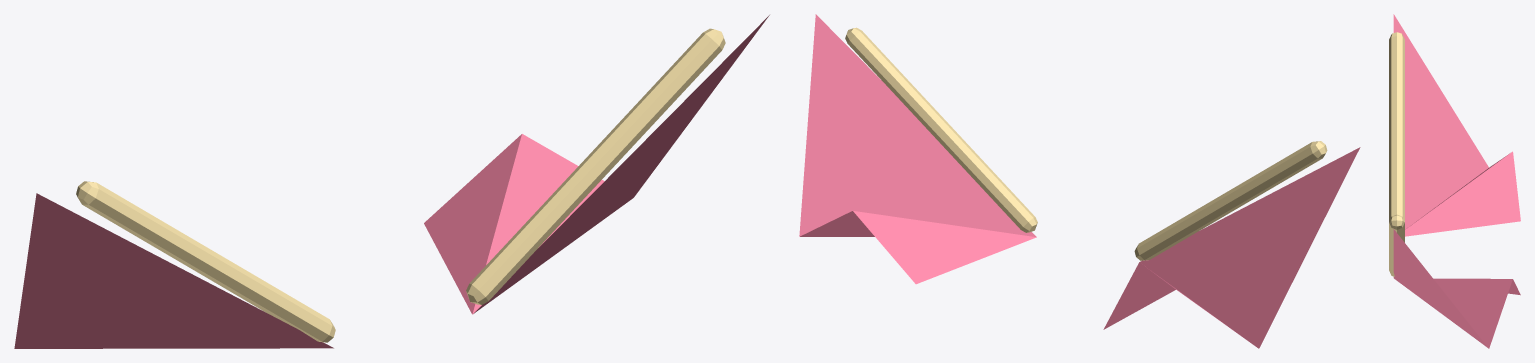
Rendered from wings.glb.
3 renders of one model, left to right at view 1: azimuth 30°, elevation 25°; view 2: azimuth 150°, elevation 25°; view 3: azimuth 270°, elevation 25°, orthographic. The views are drawn at different scales.
Visible parts, largest first — view 1: Wing, Wing.001, Wing bone.001, Wing bone; view 2: Wing.001, Wing, Wing bone.001, Wing bone; view 3: Wing, Wing.001, Wing bone, Wing bone.001.
Boxes of the visible parts, <box> form: Wing: <box>14,193,333,348</box>; Wing.001: <box>424,15,769,314</box>; Wing bone.001: <box>466,28,725,304</box>; Wing bone: <box>76,181,335,342</box>; Wing.001: <box>799,14,1036,284</box>; Wing: <box>1103,147,1360,348</box>; Wing bone.001: <box>845,27,1037,232</box>; Wing bone: <box>1134,141,1327,260</box>; Wing: <box>1393,14,1520,236</box>; Wing.001: <box>1393,229,1520,348</box>; Wing bone: <box>1389,32,1404,221</box>; Wing bone.001: <box>1389,214,1404,276</box>.
Size of the model in its own units: 3.2 by 0.95 by 0.83.
